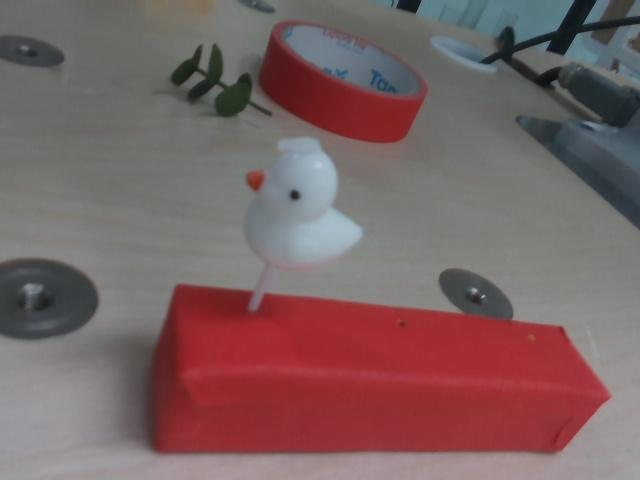w_duck: (227, 131, 384, 286)
